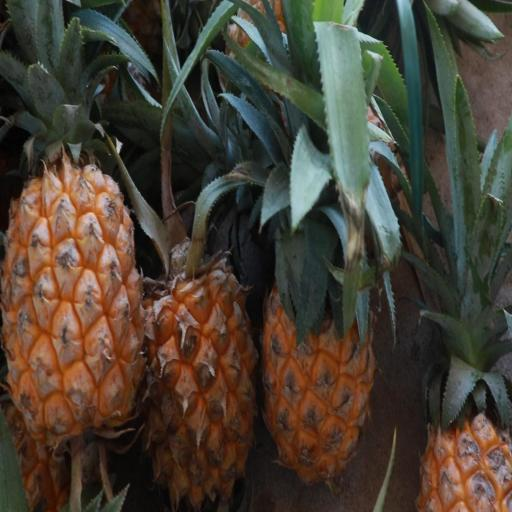Pineapple - v8 v1: (0, 144, 151, 464), (260, 166, 383, 490), (136, 205, 263, 512), (411, 291, 512, 511)
